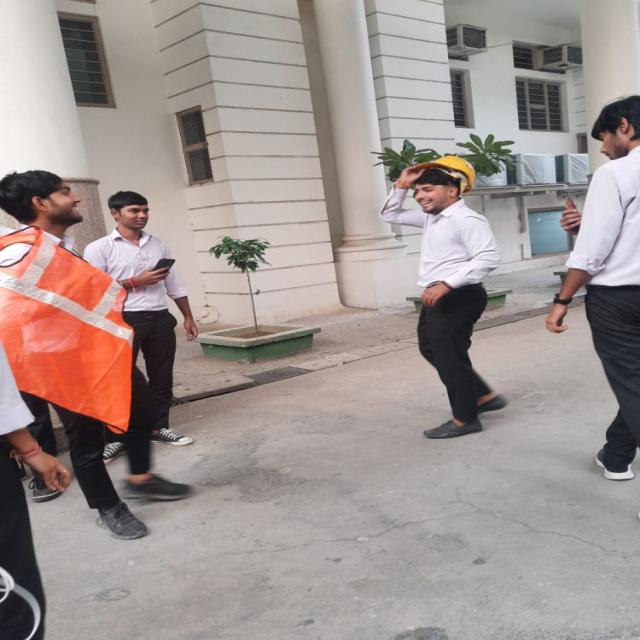no jacket: (378, 154, 518, 447)
unsafe: (96, 192, 202, 452)
